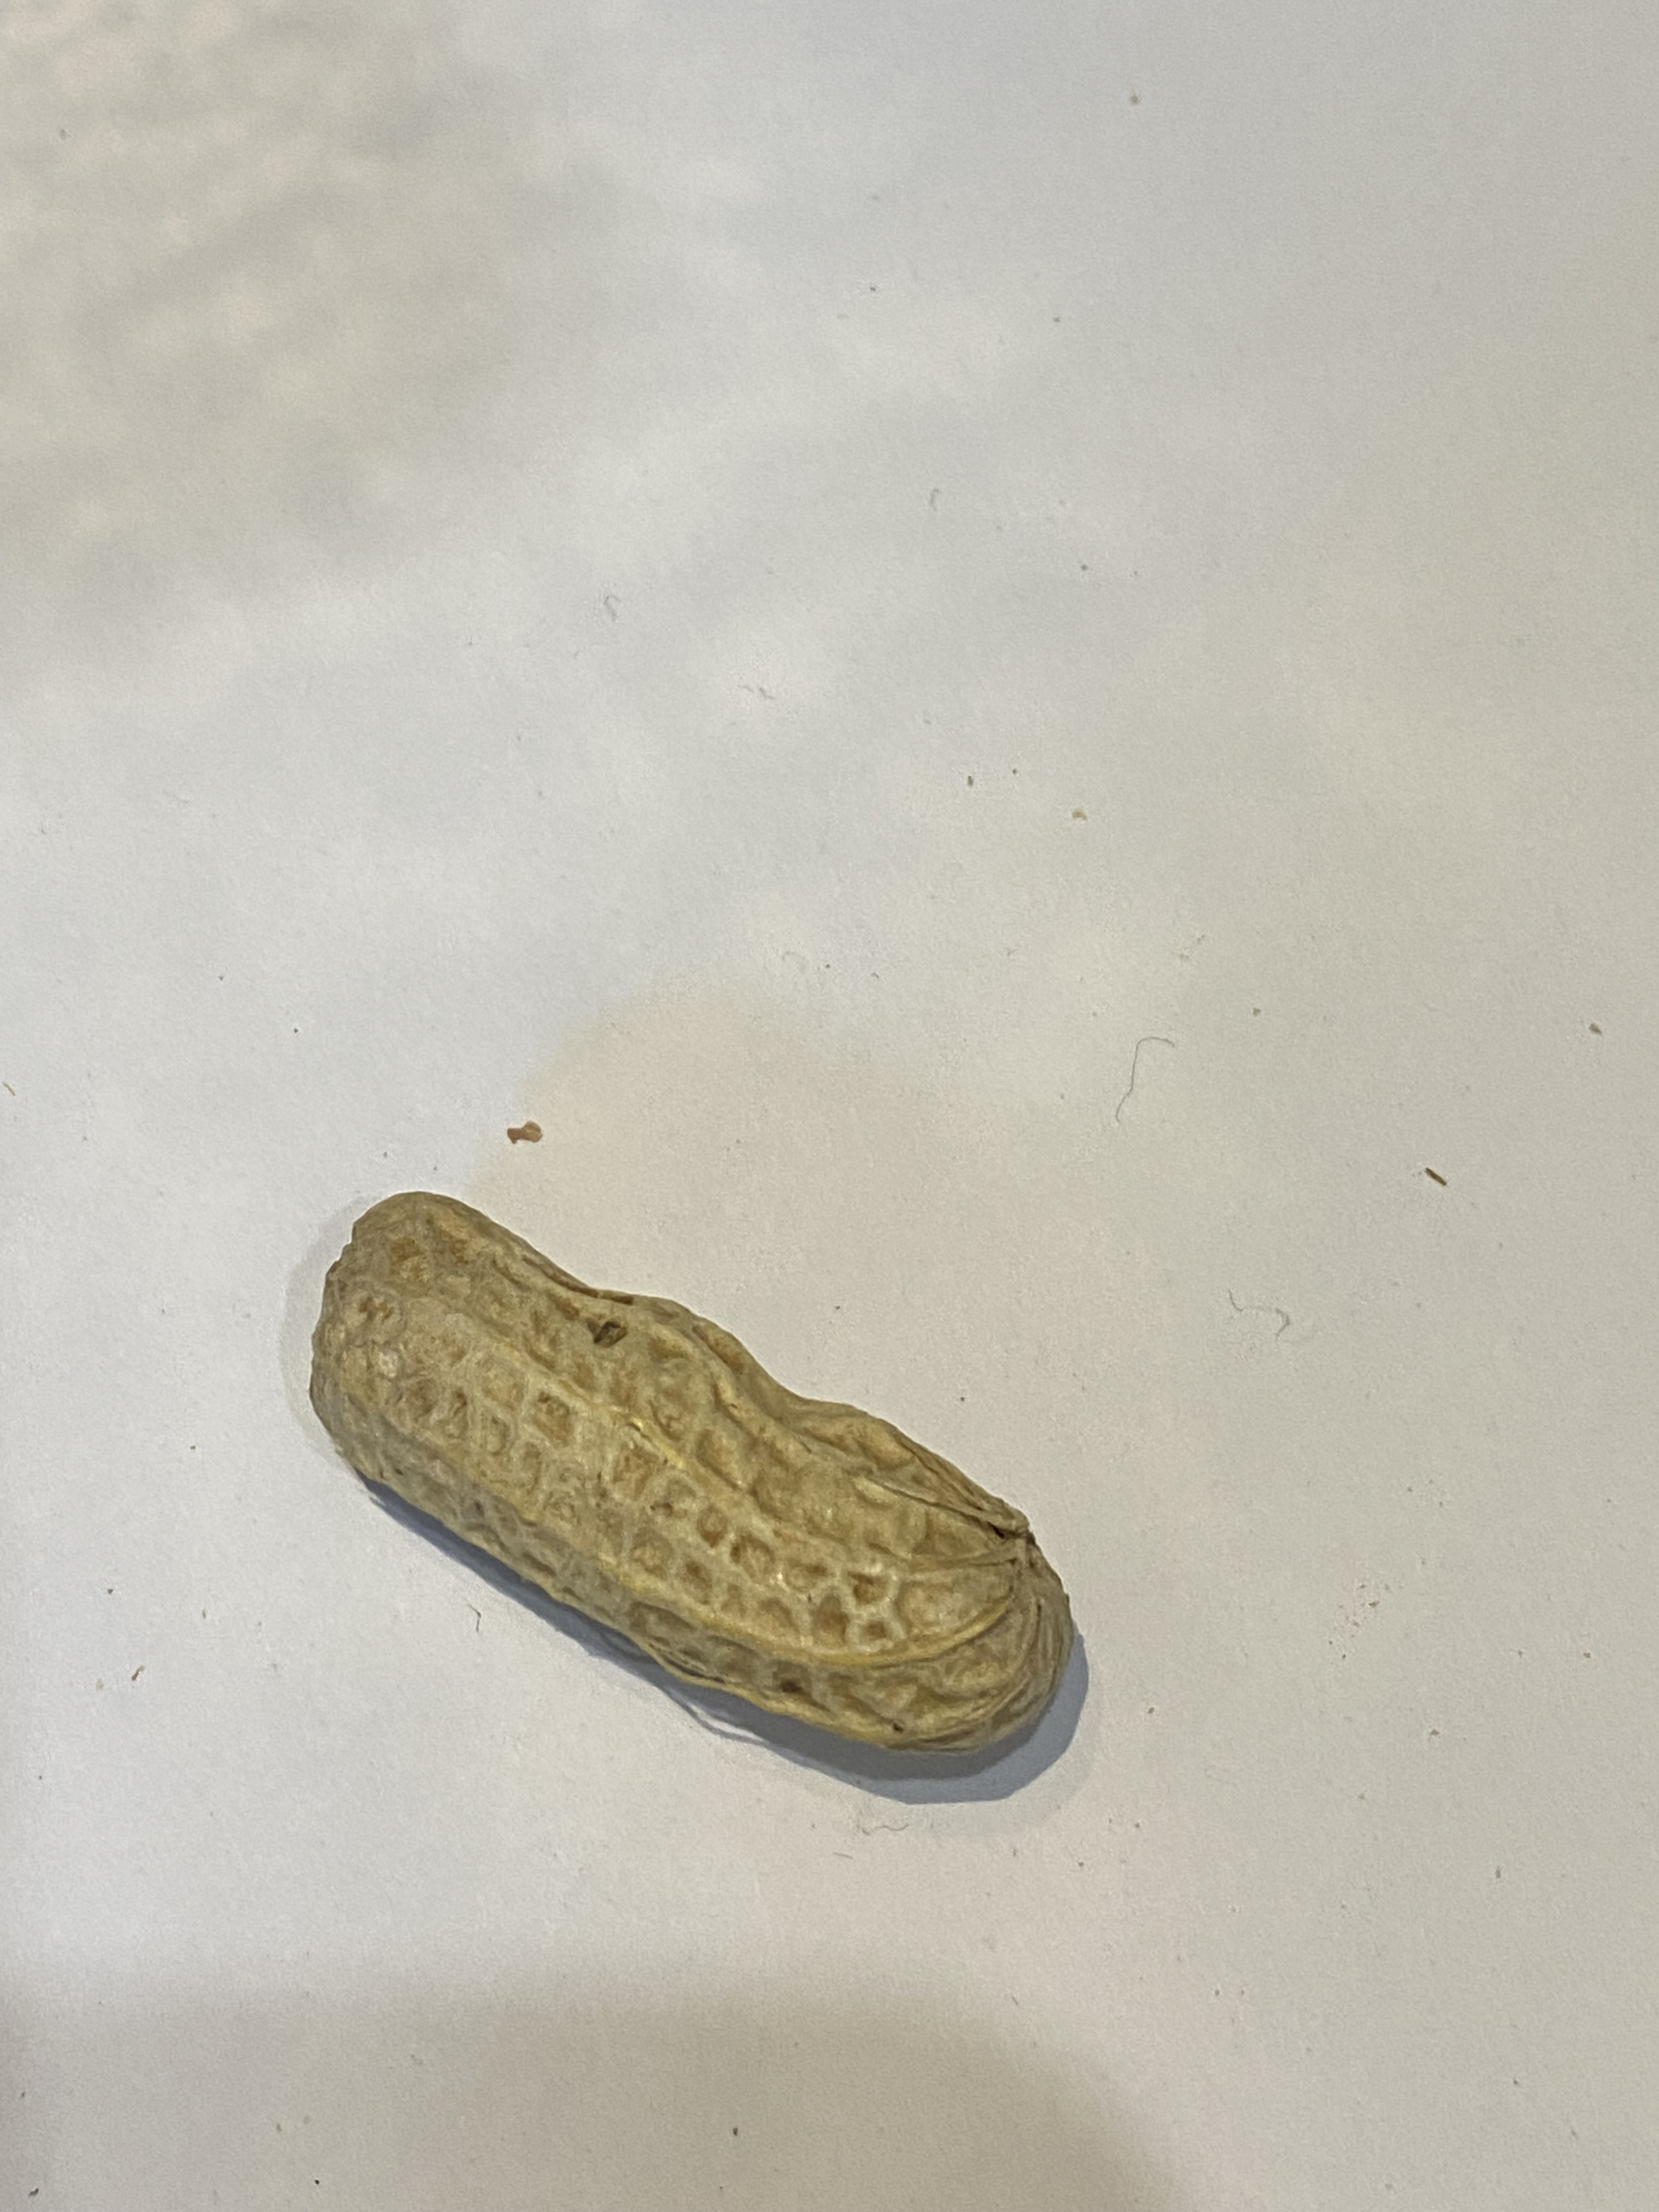kacang3: (282, 1167, 1084, 1796)
